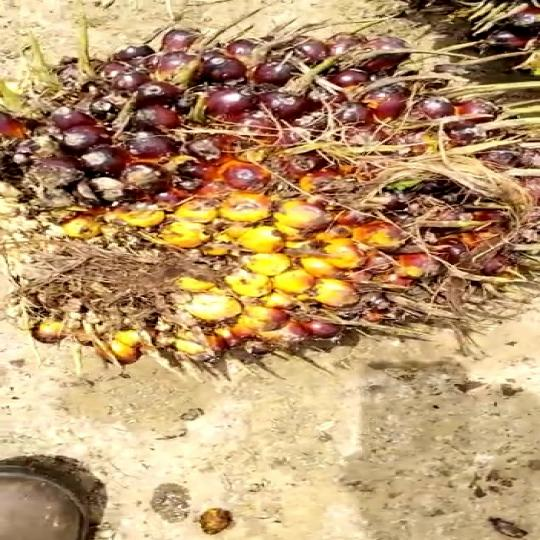kurang masak: (0, 30, 540, 380)
